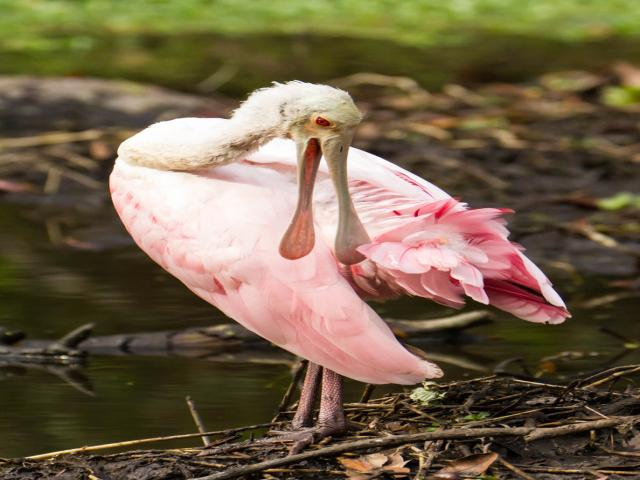Bird: (105, 77, 571, 467)
